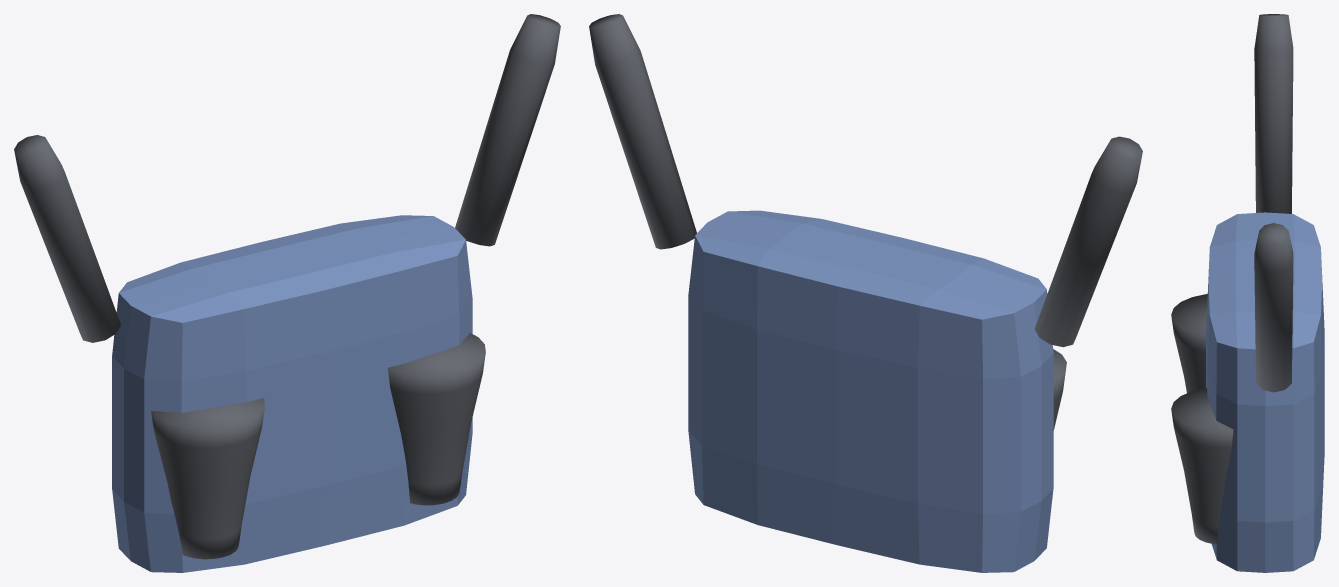
The model's file is back_general.glb.
3 views of the same model, side by side, from view 1: azimuth 30°, elevation 25°; view 2: azimuth 150°, elevation 25°; view 3: azimuth 270°, elevation 25° (orthographic). The views are drawn at different scales.
Visible parts, largest first — view 1: pack, thruster, thruster.001, saber.001, saber; view 2: pack, saber.001, saber, thruster; view 3: pack, saber, saber.001, thruster.001, thruster.
Boxes of the visible parts, x1,y1,x2,y2 form: pack: (112,215,472,572); thruster: (151,398,264,559); thruster.001: (387,333,485,505); saber.001: (455,14,560,246); saber: (14,135,120,342); pack: (688,210,1053,572); saber.001: (589,14,696,249); saber: (1034,136,1142,347); thruster: (1053,349,1066,430); pack: (1206,212,1324,572); saber: (1254,14,1293,213); saber.001: (1254,223,1293,392); thruster.001: (1171,388,1233,544); thruster: (1171,294,1207,393).
Bounding box in the file's own units: 5.42 × 4.26 × 1.53.
